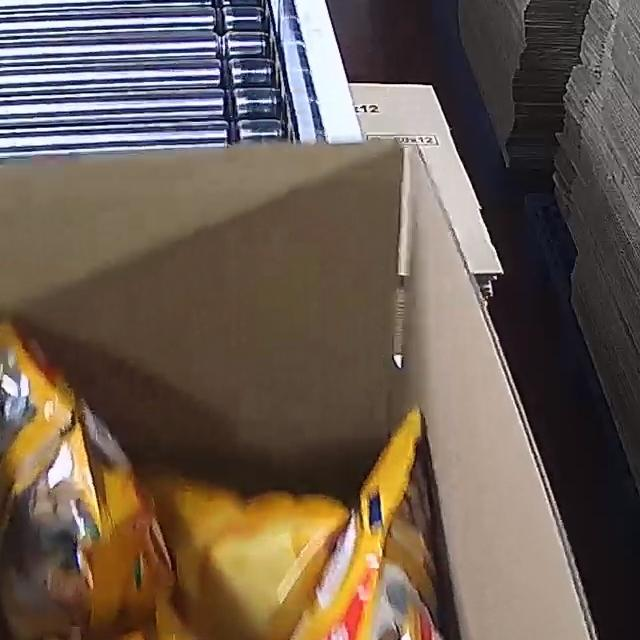cheese: (0, 337, 480, 640)
